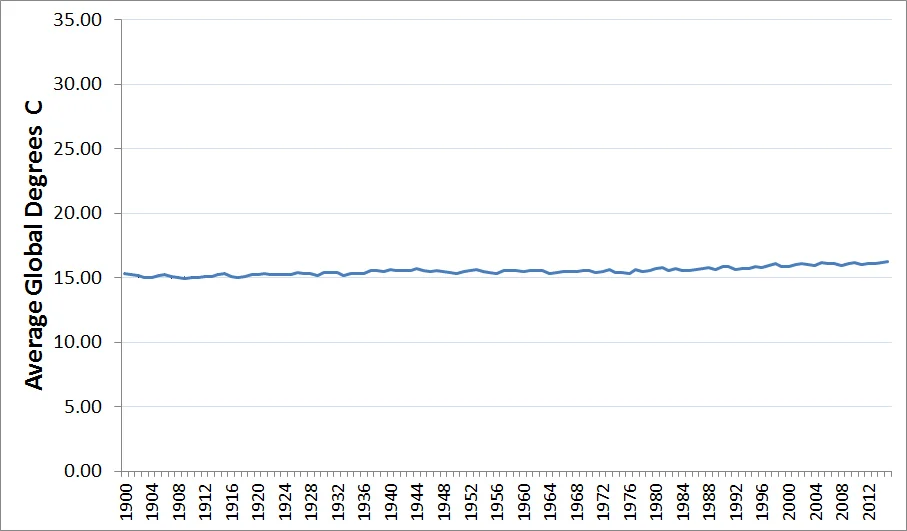OK_NoIssue: (36, 5, 905, 531)
